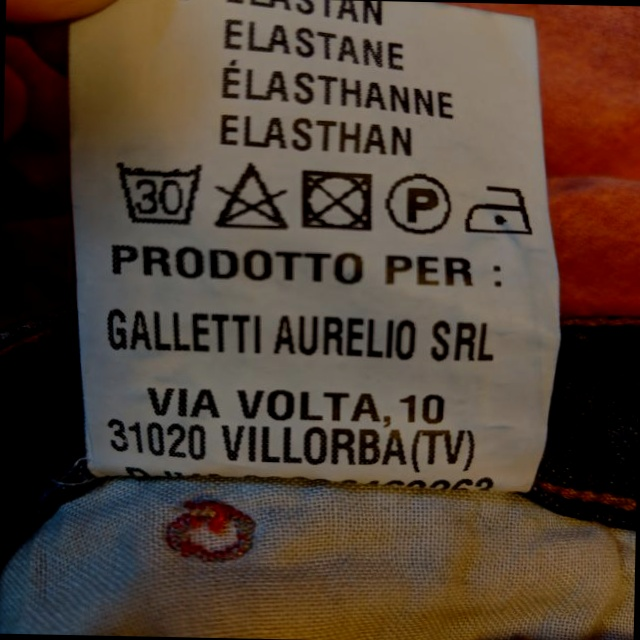30C: (112, 158, 208, 229)
DN_bleach: (217, 161, 290, 233)
DN_tumble_dry: (298, 169, 376, 234)
dry_clean_any_solvent_except_trichloroethylene: (384, 170, 453, 236)
iron_low: (464, 180, 534, 238)
